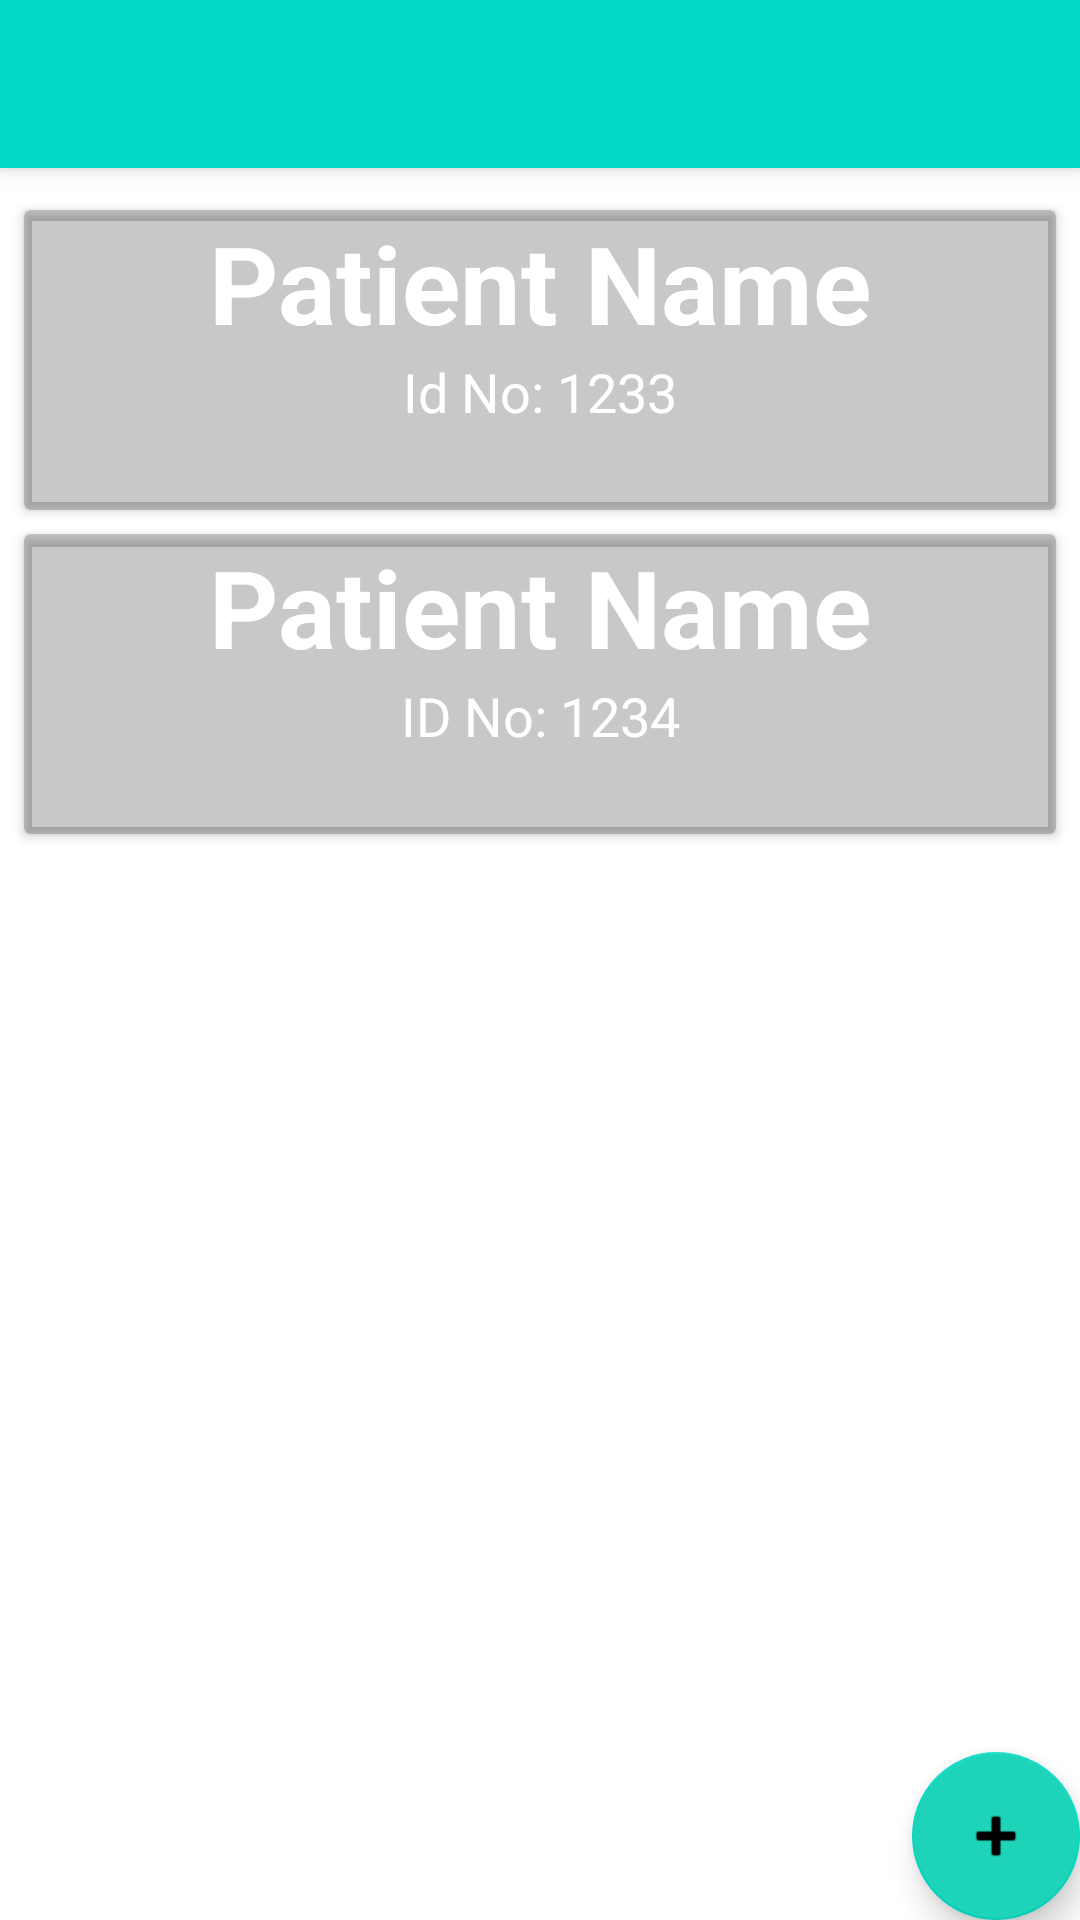

Named icons in this screenshot (1080w x 1920h) and their bounding boxes, Rect(x1, y1, x2, y2):
Add: Rect(912, 1752, 1080, 1920)
